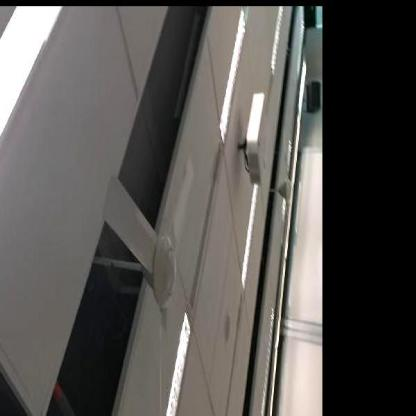light_on: (0, 6, 66, 256), (154, 296, 209, 414), (211, 8, 250, 144), (235, 176, 267, 294), (266, 6, 288, 78)
